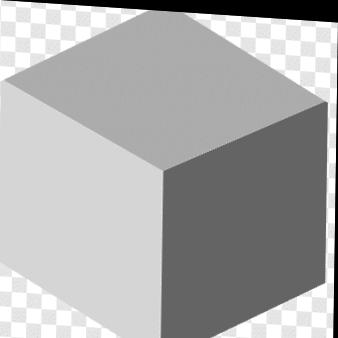cube: (0, 0, 328, 338)
